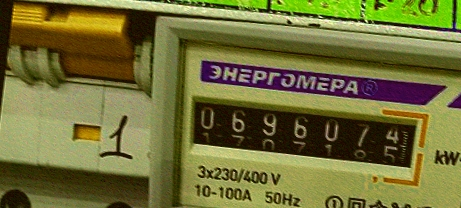0: (196, 102, 217, 129), (321, 114, 340, 142)
4: (384, 121, 400, 143)
5: (381, 143, 397, 163)
6: (290, 110, 310, 139), (227, 105, 248, 132)
7: (352, 119, 371, 147)
9: (259, 109, 279, 136)
screen: (178, 80, 432, 187)
